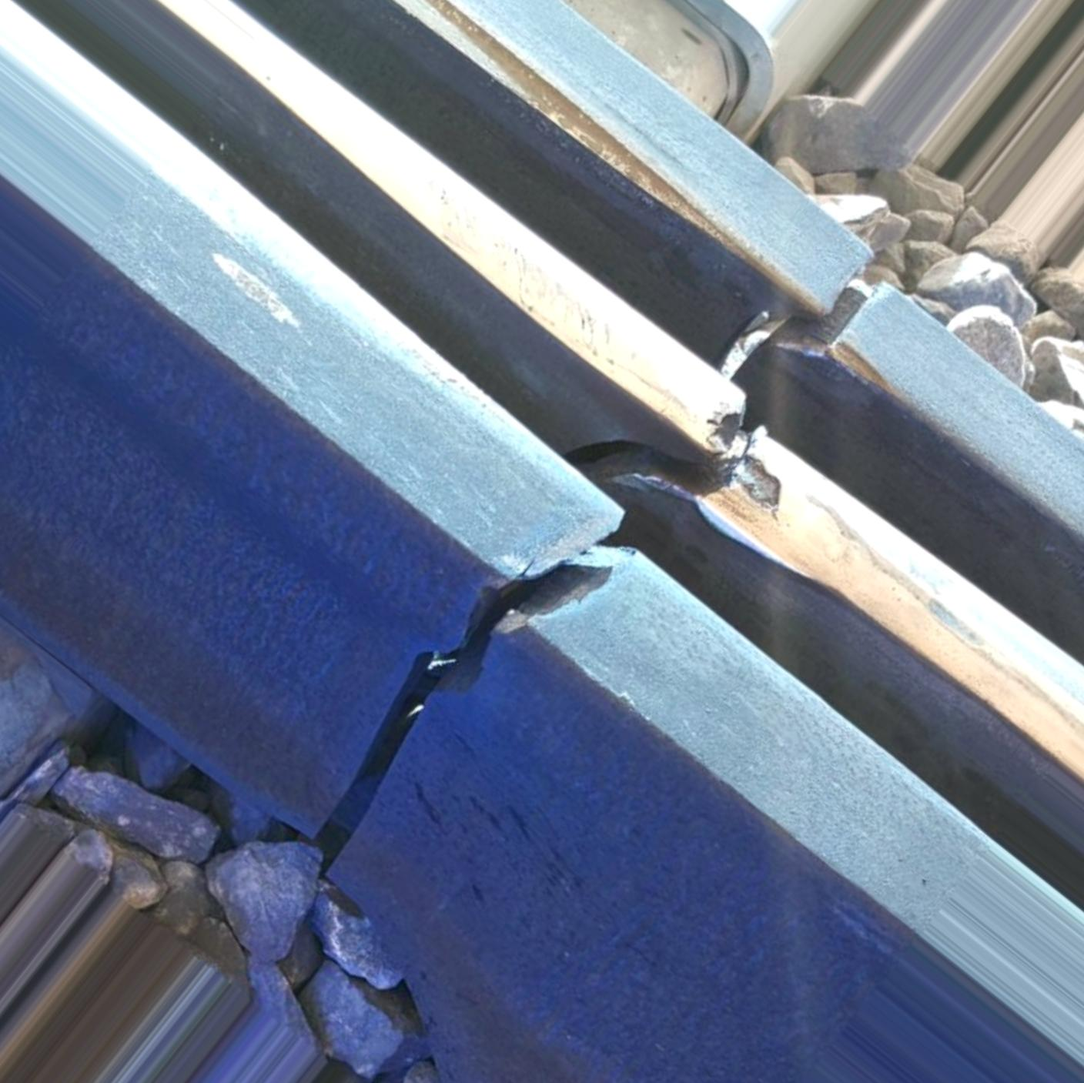tracks_fault: (281, 154, 915, 881)
